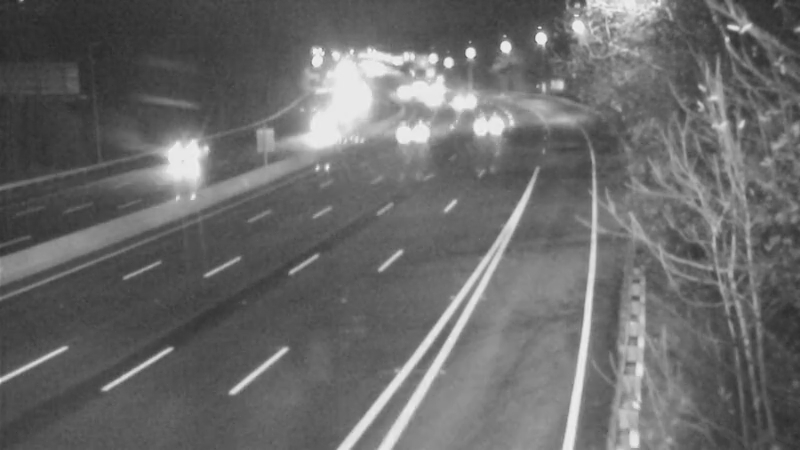vehicle: (136, 112, 216, 192), (379, 69, 429, 119), (408, 71, 458, 121), (442, 78, 492, 128), (463, 98, 513, 148), (388, 108, 438, 158), (296, 97, 346, 147)
